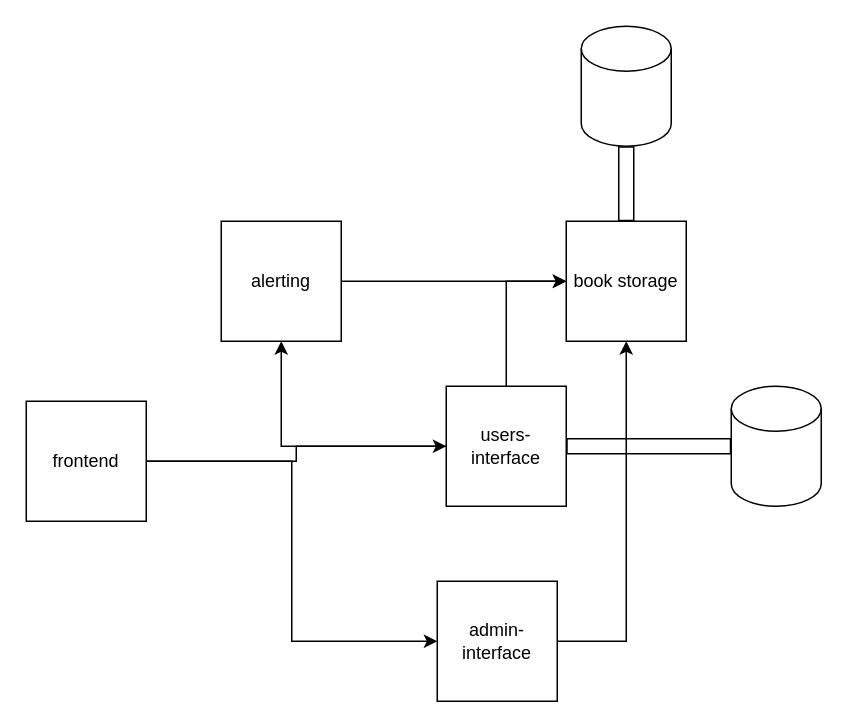
The diagram is 848 pixels wide and 728 high, and some of its shapes have lost their labels. Here are the shapes that lost their labels. From the top down, the centre of each, then its label:
At point (625, 85): "Books".
At point (775, 445): "Users".
